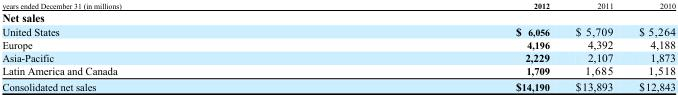table: (1, 0, 674, 92)
table column: (1, 0, 317, 92), (317, 0, 561, 92), (561, 0, 625, 92), (625, 0, 674, 92)
table column header: (1, 0, 674, 10)
table projected row header: (1, 10, 674, 24)
table row: (1, 63, 674, 78), (1, 10, 674, 24), (1, 78, 674, 92), (1, 24, 674, 37), (1, 37, 674, 50), (1, 50, 674, 63), (1, 0, 674, 10)
